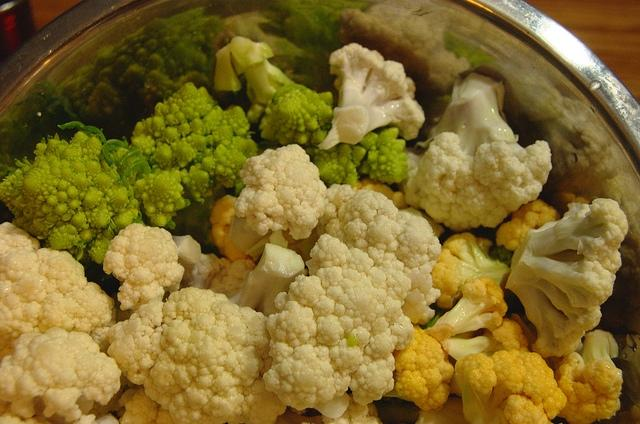cauliflower: (398, 72, 552, 233), (107, 287, 286, 424), (264, 266, 415, 411), (505, 198, 628, 358), (324, 189, 442, 326), (314, 43, 426, 150), (0, 327, 121, 422), (234, 144, 327, 239), (455, 348, 568, 424), (542, 329, 624, 422), (103, 222, 185, 310), (432, 232, 511, 308), (228, 243, 304, 318), (424, 276, 508, 342), (392, 324, 454, 412), (178, 253, 256, 298), (64, 282, 114, 330), (117, 388, 174, 424), (172, 234, 202, 269)
